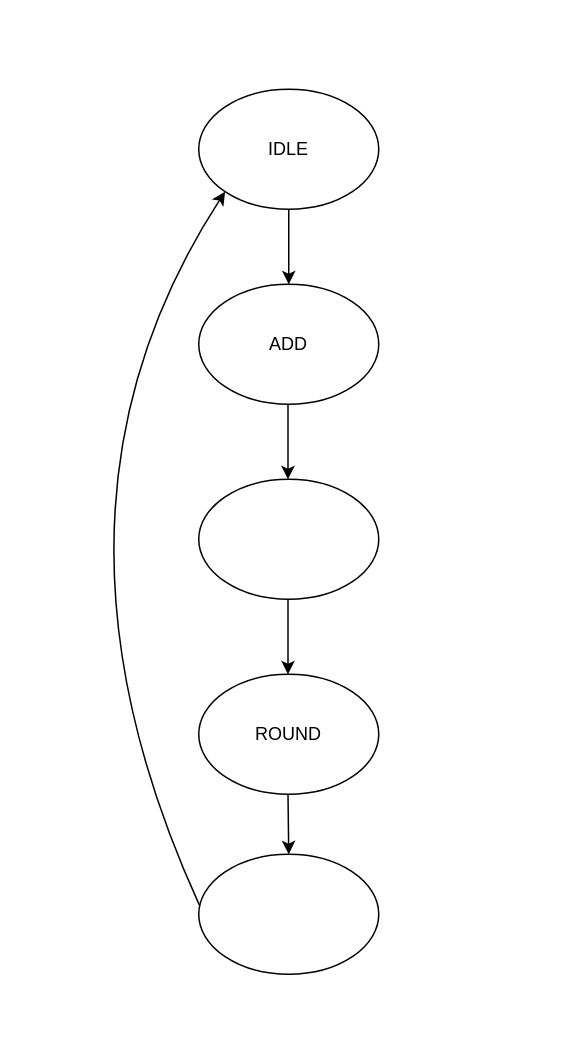
This 561x1056 diagram has some shape labels left out. Here are the shapes that lost their labels. From the top down, the centre of each, then its label:
the point at 288,538: NORMALIZE
the point at 288,913: RESULT
